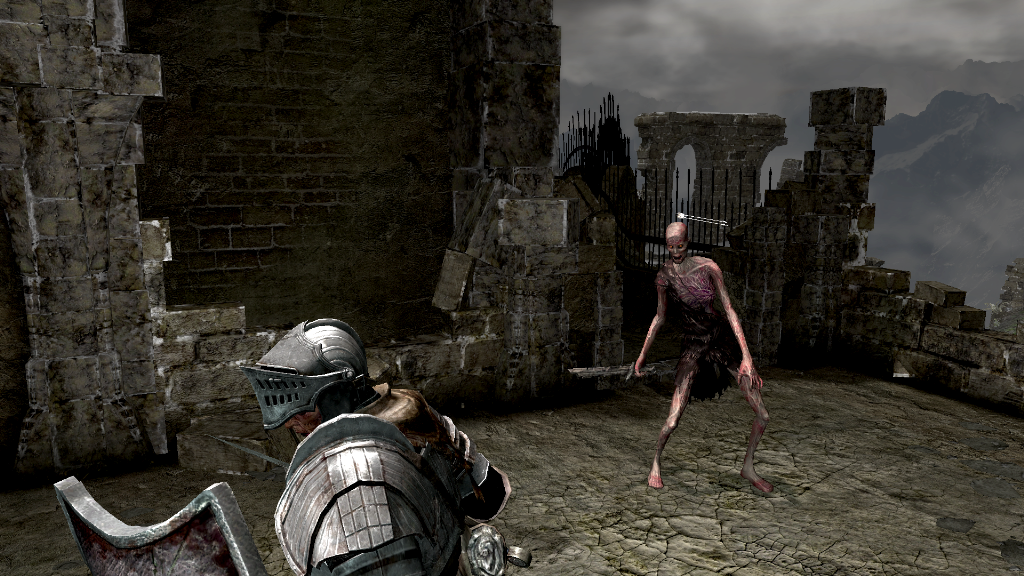hollow: (633, 220, 774, 493)
player: (50, 316, 535, 576)
